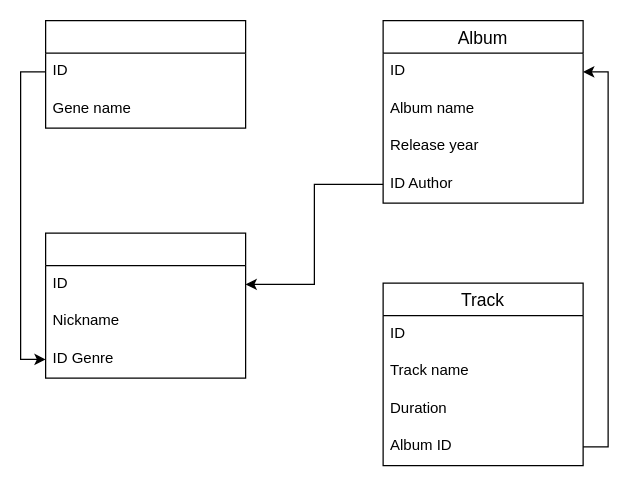
This 629x486 diagram has some shape labels left out. The box of each missing label's shape, as (x1, y1, x2, y2) in pixels:
Author: (44, 232, 246, 378)
Genre: (44, 19, 246, 128)
